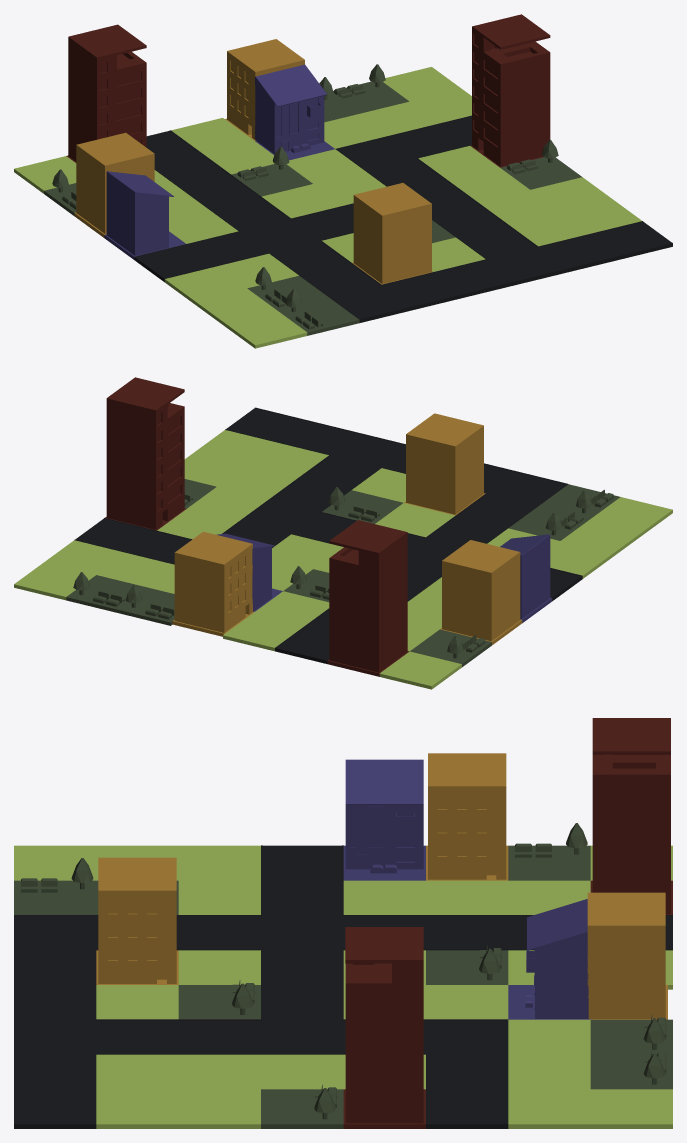
The model's file is map1 64x64.dae.
3 renders of one model, top to bottom at view 1: azimuth 30°, elevation 25°; view 2: azimuth 150°, elevation 25°; view 3: azimuth 270°, elevation 25°, orthographic. The views are drawn at different scales.
Visible parts, largest first — view 1: Cube.053, Cube.002, Cube.001, Cube.049, Cube.048, Cube.043, Cube.056, Cube.038, Cube.016, Cube.064, Cube.051, Cube.061 (+49 smaller); view 2: Cube.002, Cube.053, Cube.056, Cube.043, Cube.001, Cube.048, Cube.047, Cube.061, Cube.055, Cube.045, Cube.050, Cube.020 (+42 smaller); view 3: Cube.053, Cube.002, Cube.043, Cube.001, Cube.056, Cube.048, Cube.049, Cube.045, Cube.064, Cube.070, Cube.069, Cube.063 (+43 smaller).
Part boxes in pixels (x1,y1,x2,y2): Cube.053: [470, 14, 550, 167]; Cube.002: [66, 24, 146, 162]; Cube.001: [352, 183, 432, 284]; Cube.049: [255, 64, 334, 160]; Cube.048: [104, 171, 185, 259]; Cube.043: [74, 132, 154, 237]; Cube.056: [225, 39, 304, 140]; Cube.038: [277, 289, 359, 335]; Cube.016: [225, 310, 307, 348]; Cube.064: [500, 139, 581, 189]; Cube.051: [231, 146, 312, 196]; Cube.061: [331, 64, 409, 114]; Cube.002: [327, 520, 409, 676]; Cube.053: [105, 377, 186, 530]; Cube.056: [172, 531, 254, 636]; Cube.043: [440, 540, 522, 645]; Cube.001: [404, 413, 485, 515]; Cube.048: [500, 534, 552, 622]; Cube.047: [379, 651, 461, 689]; Cube.061: [66, 572, 147, 612]; Cube.055: [223, 613, 304, 651]; Cube.045: [410, 629, 491, 667]; Cube.050: [322, 487, 403, 523]; Cube.020: [561, 519, 642, 556]; Cube.053: [343, 927, 425, 1128]; Cube.002: [590, 718, 672, 914]; Cube.043: [426, 753, 508, 880]; Cube.001: [96, 857, 178, 984]; Cube.056: [587, 892, 667, 1019]; Cube.048: [343, 759, 425, 880]; Cube.049: [508, 899, 590, 1019]; Cube.045: [508, 823, 590, 880]; Cube.064: [261, 1084, 343, 1128]; Cube.070: [96, 1089, 178, 1128]; Cube.069: [178, 1089, 260, 1128]; Cube.063: [590, 1089, 672, 1128].
Bounding box in the file's own units: 128 × 128 × 36.
